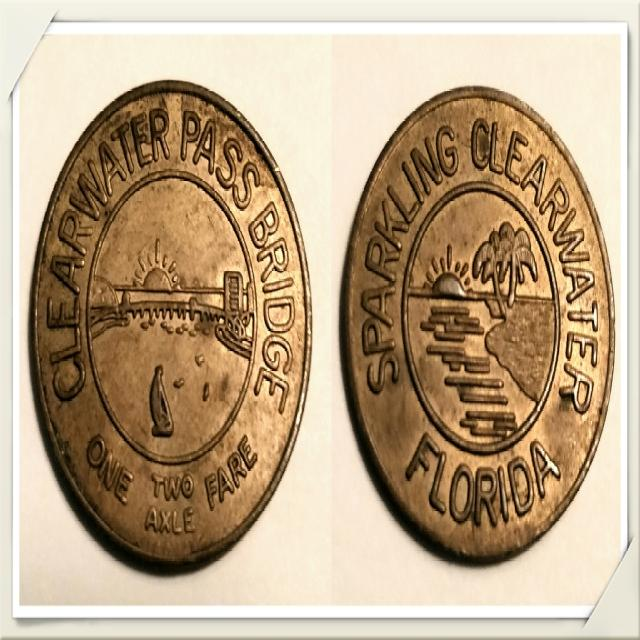Coin: (30, 78, 312, 573), (342, 88, 616, 567)
